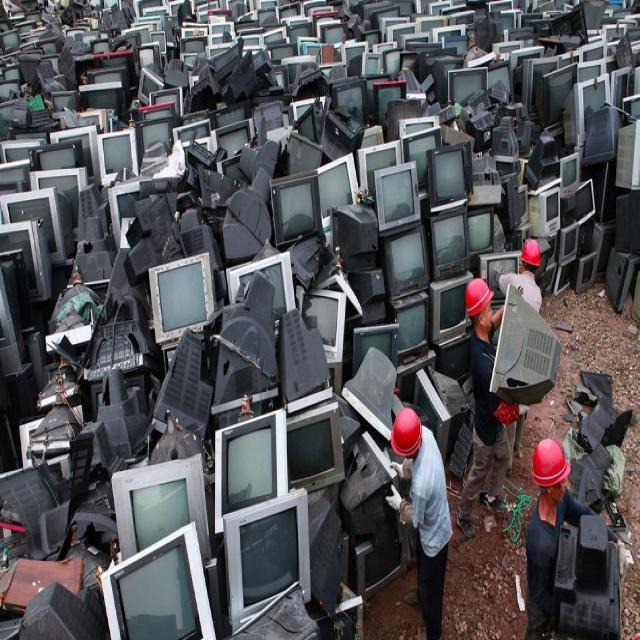hazard: (3, 0, 640, 566), (568, 384, 632, 621)
